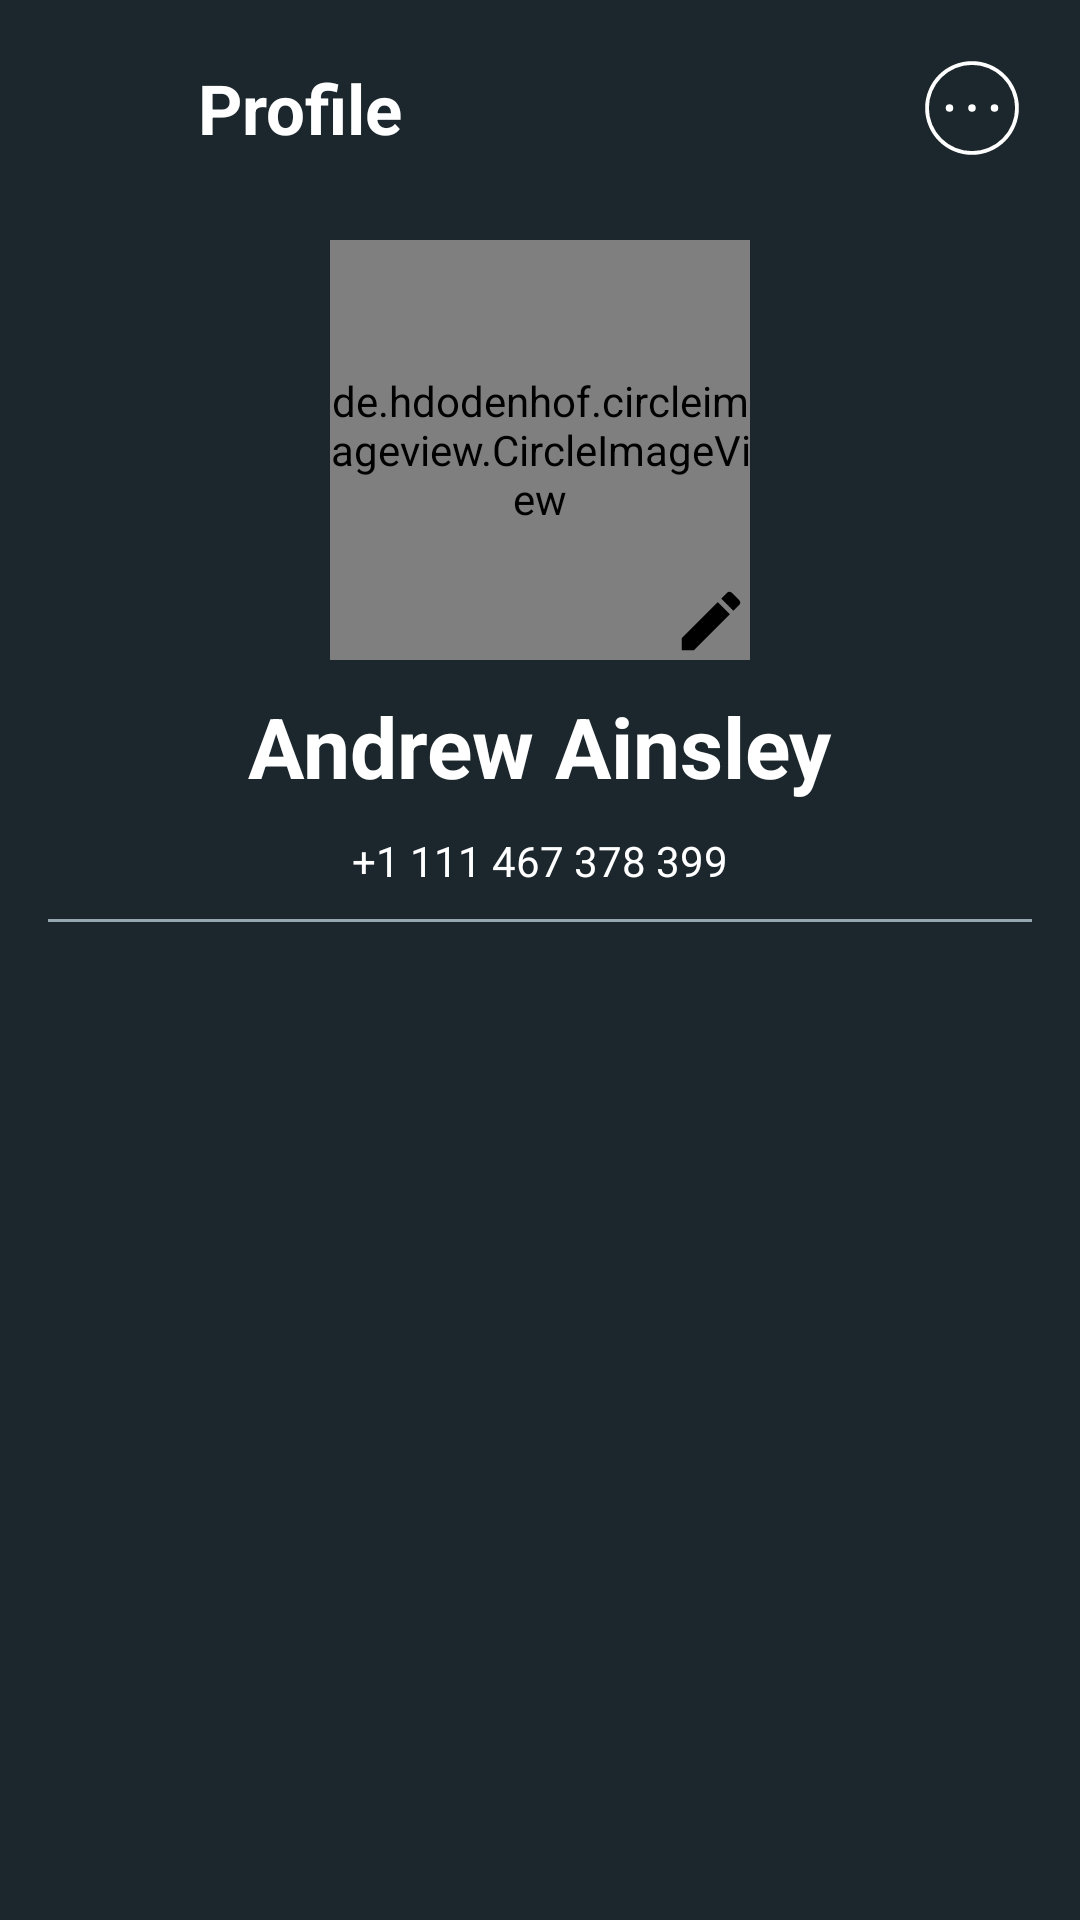

Screen size 1080px x 1920px. Icon name, then its box in pixels as (x1, y1, x2, y2):
pen: (681, 591, 741, 651)
treedots round: (925, 61, 1019, 155)
